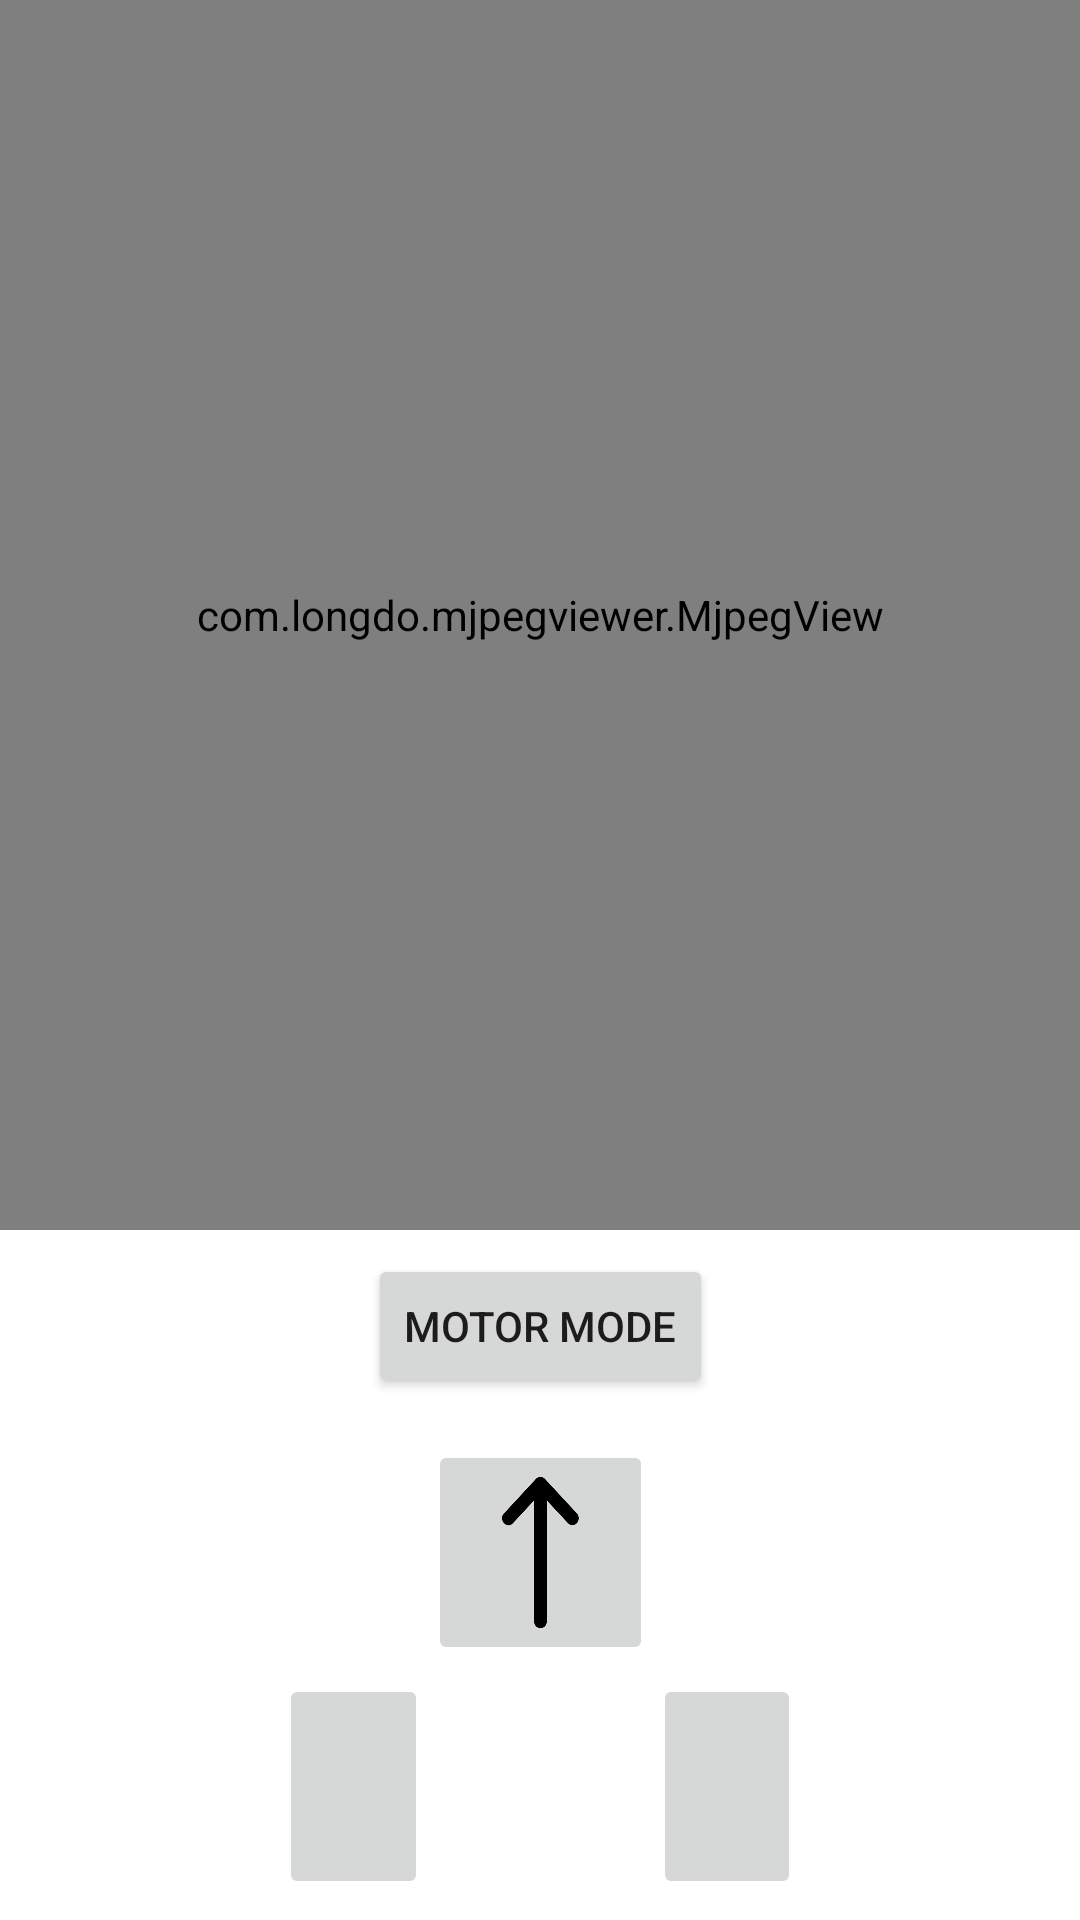

Point at icon controls on the screen. Image size 1080 × 1920, points as point (x, y).
up arrow: point (540, 1552)
